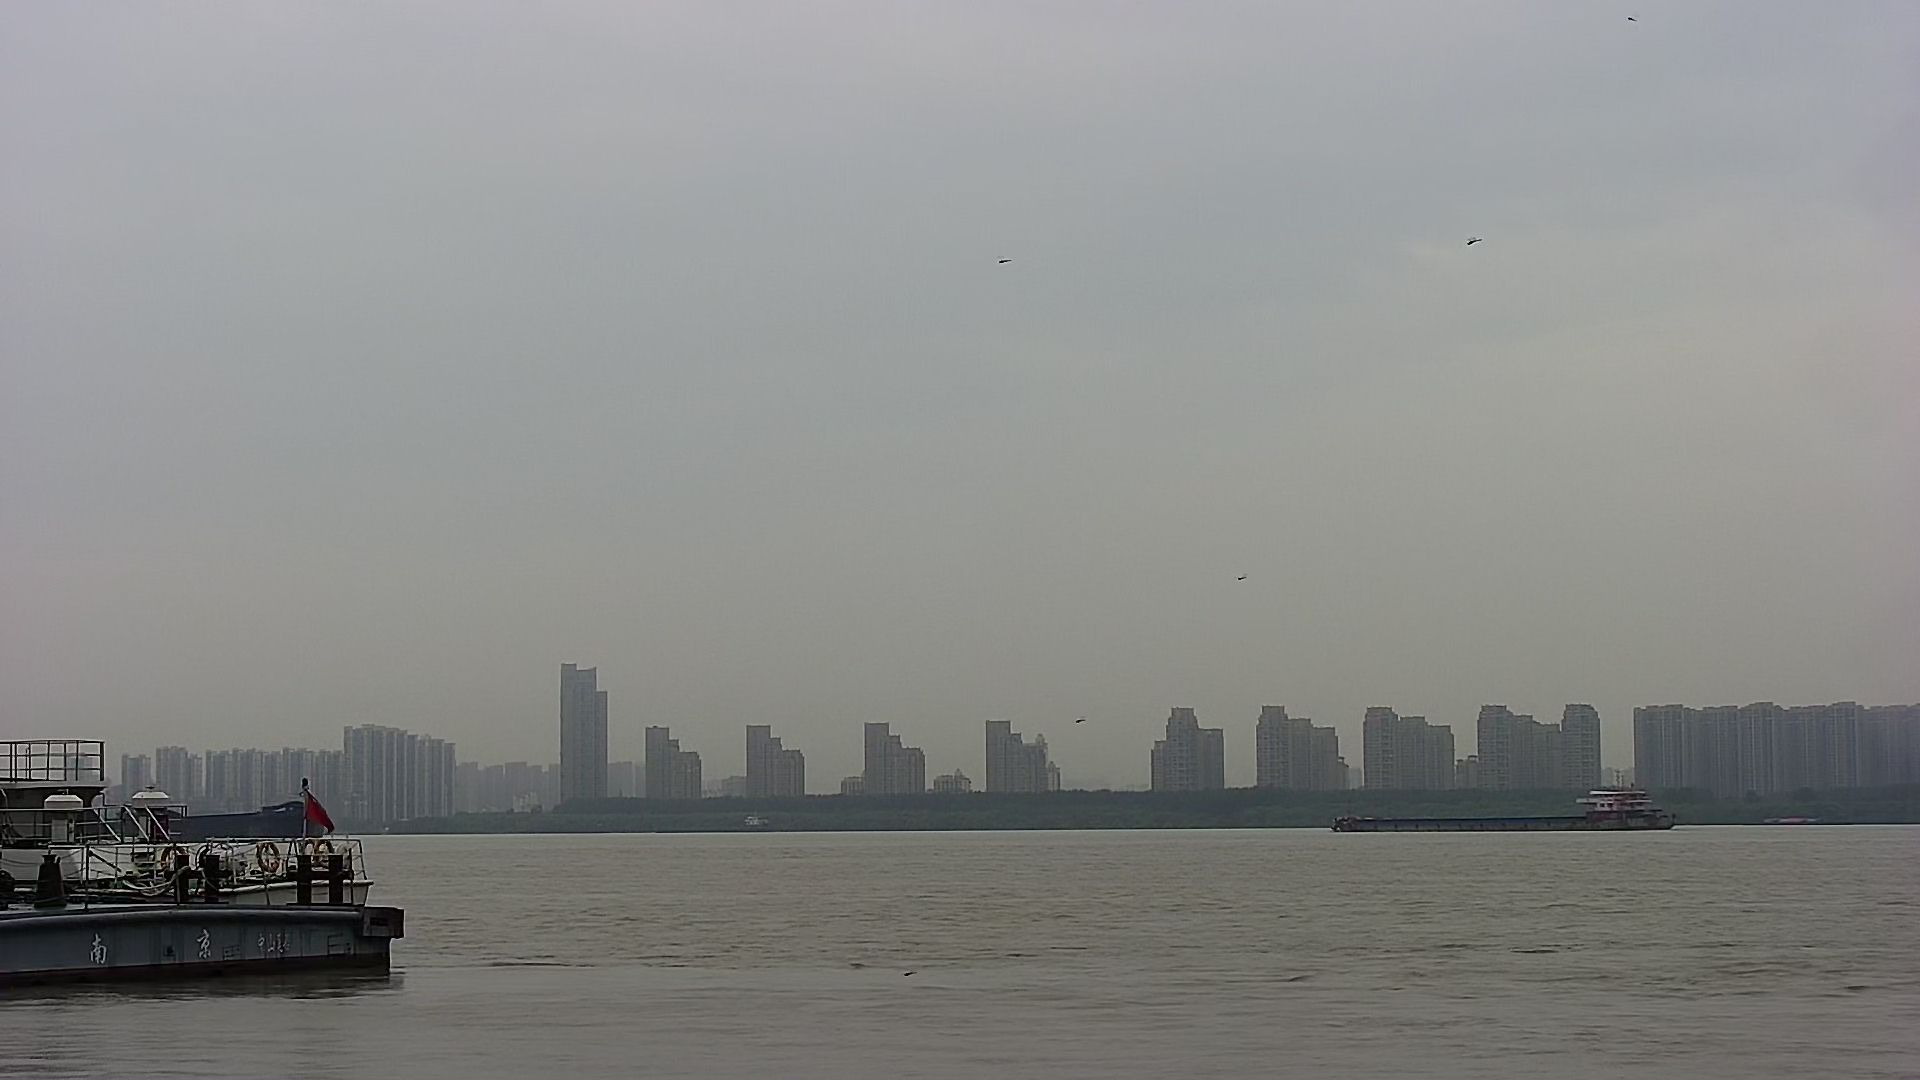ship: (1, 736, 407, 973), (1327, 770, 1671, 835), (164, 799, 330, 841)
